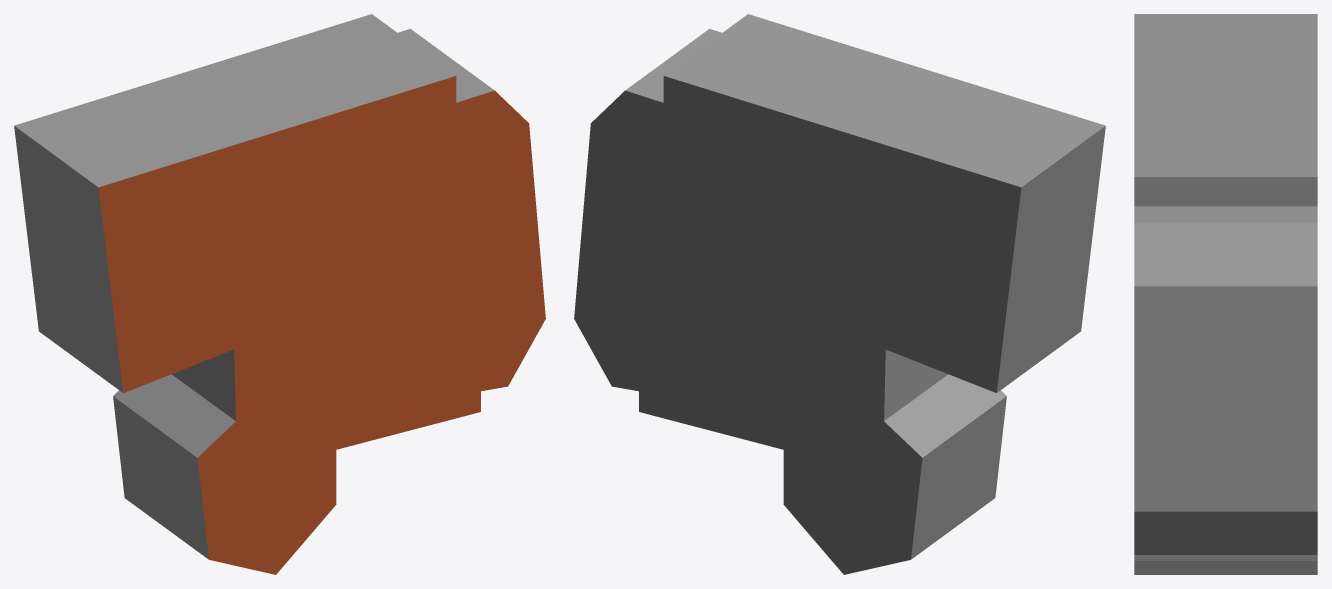
Rendered from construction_4312_assumed_A_Casa_h6m.obj.
The picture shows the model from 3 angles, left to right: view 1: azimuth 30°, elevation 25°; view 2: azimuth 150°, elevation 25°; view 3: azimuth 270°, elevation 25°; orthographic projection. The views are drawn at different scales.
Visible parts, largest first — view 1: construction_4312_assumed_A_Casa; view 2: construction_4312_assumed_A_Casa; view 3: construction_4312_assumed_A_Casa.
Part boxes in pixels (x1,y1,x2,y2): construction_4312_assumed_A_Casa: (14,14,545,574); construction_4312_assumed_A_Casa: (574,14,1105,574); construction_4312_assumed_A_Casa: (1134,14,1317,574).
Size of the model in its own units: 18.35 by 17.84 by 6.
